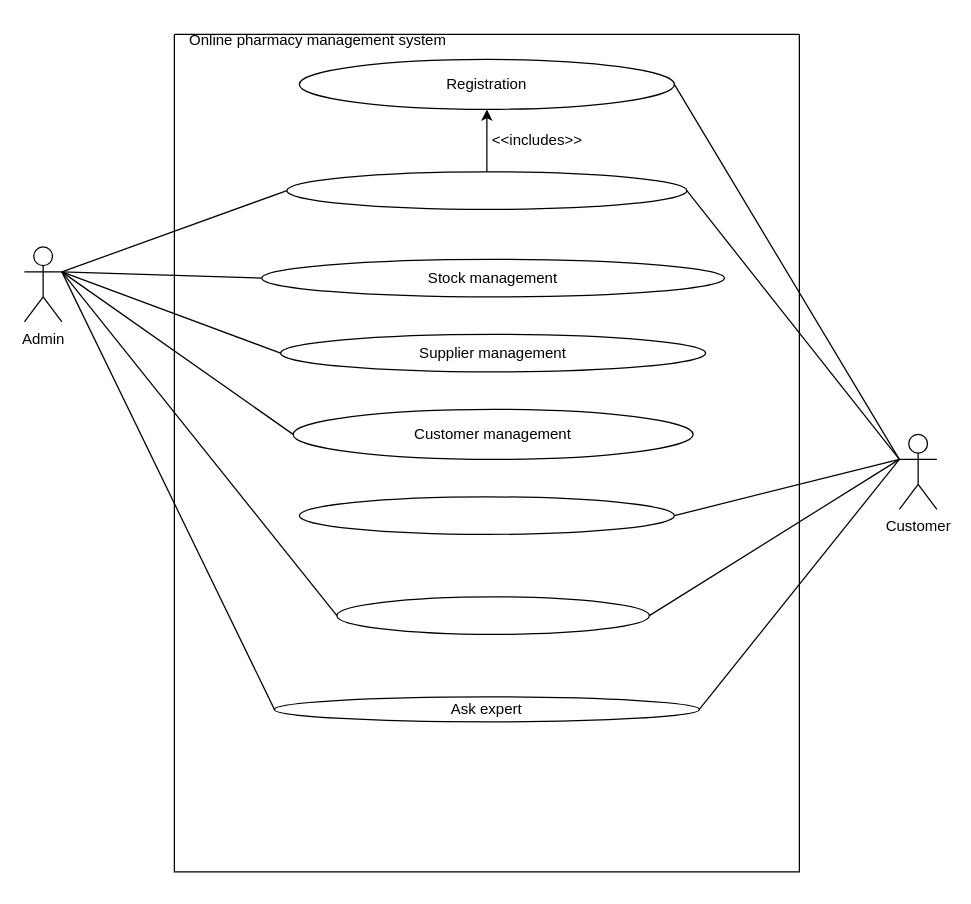
The diagram is 971 pixels wide and 904 high, and some of its shapes have lost their labels. The centre of each missing label's shape, as x and y in pixels:
Billing: [486,515]
Login: [486,190]
View Information: [492,615]
